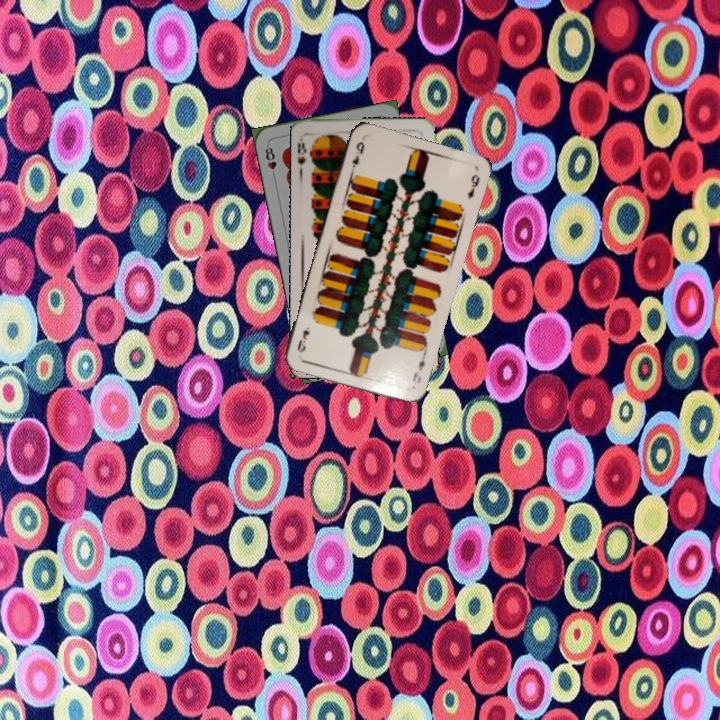E9: (347, 137, 367, 175), (409, 350, 428, 385)
H8: (261, 141, 279, 181)
S8: (294, 132, 309, 168)
